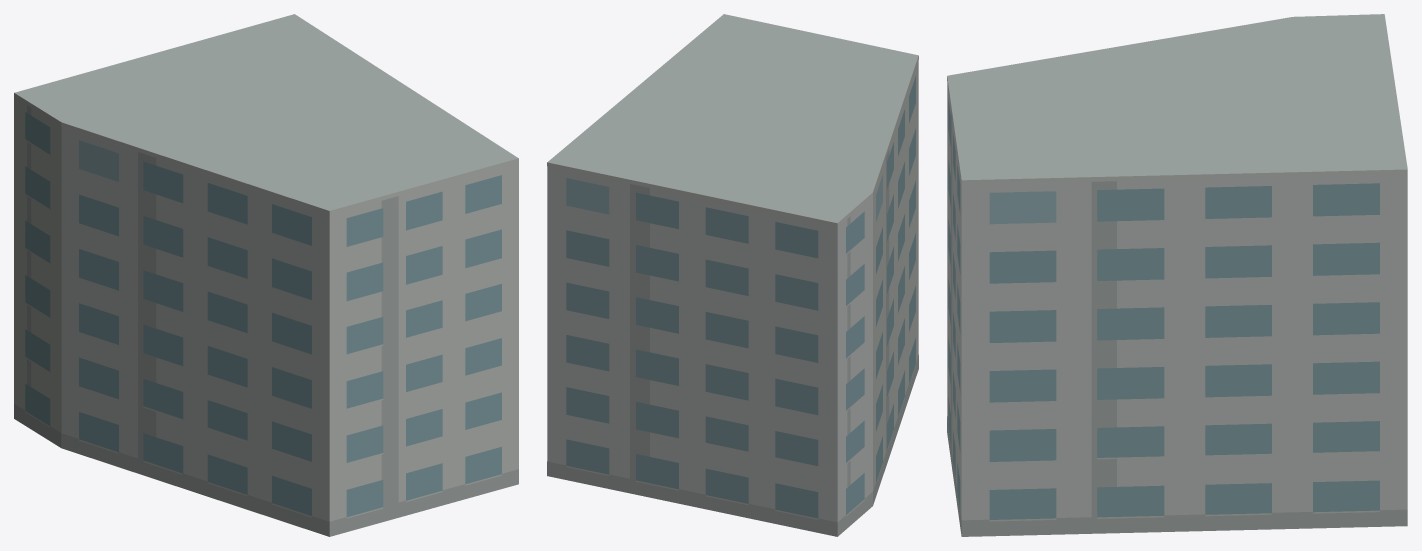
Rendered from survey-upis-32943403.glb.
3 renders of one model, left to right at view 1: azimuth 30°, elevation 25°; view 2: azimuth 150°, elevation 25°; view 3: azimuth 270°, elevation 25°, orthographic. The views are drawn at different scales.
Visible parts, largest first — view 1: survey-upis-32943403.tmp; view 2: survey-upis-32943403.tmp; view 3: survey-upis-32943403.tmp.
Part boxes in pixels (x1=…): survey-upis-32943403.tmp: x1=14, y1=14, x2=518, y2=536; survey-upis-32943403.tmp: x1=547, y1=14, x2=918, y2=536; survey-upis-32943403.tmp: x1=947, y1=14, x2=1407, y2=536.
Bounding box in the file's own units: 18.61 × 18.6 × 21.78.
